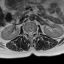CCS_normal: (29, 29, 31, 38)
LFS_normal: (34, 29, 36, 36)
LLS_normal: (31, 29, 34, 37)
RFS_normal: (25, 29, 27, 36)
RLS_normal: (27, 29, 29, 37)
